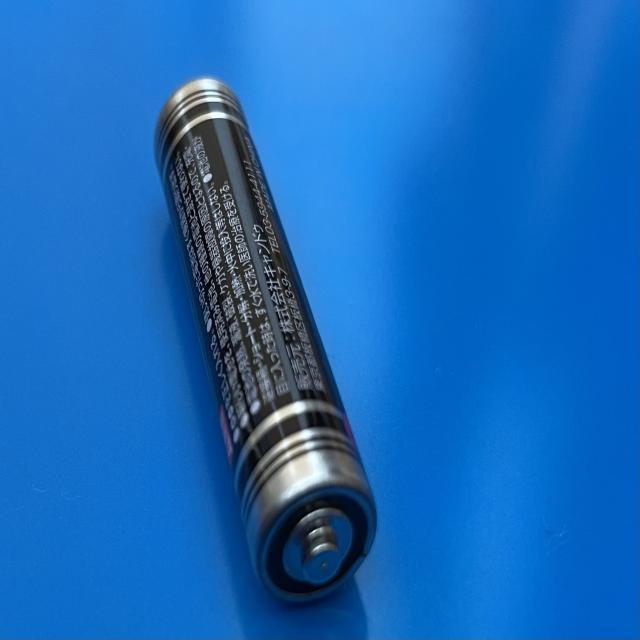AAA: (150, 78, 378, 608)
